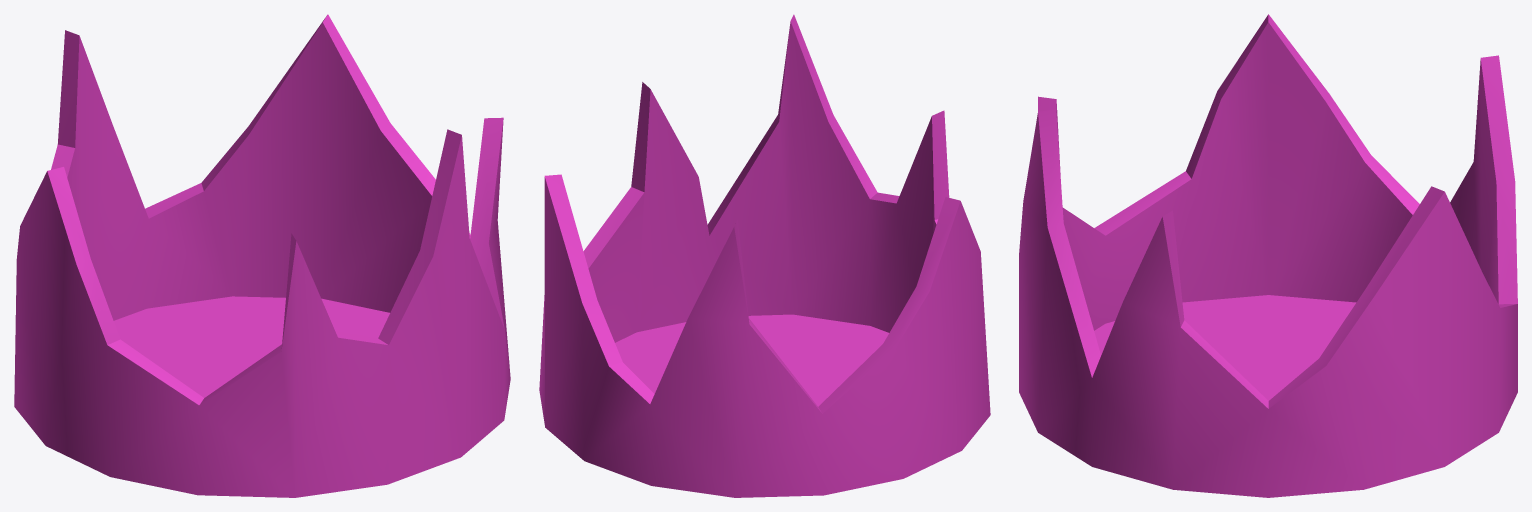
Rendered from SM_Pipe_Broken.fbx.
3 renders of one model, left to right at view 1: azimuth 30°, elevation 25°; view 2: azimuth 150°, elevation 25°; view 3: azimuth 270°, elevation 25°, orthographic. The views are drawn at different scales.
Visible parts, largest first — view 1: Bend; view 2: Bend; view 3: Bend.
Boxes of the visible parts, x1,y1,x2,y2 form: Bend: (14, 14, 510, 497); Bend: (539, 14, 990, 497); Bend: (1019, 14, 1517, 497).
Bounding box in the file's own units: 25.96 × 18.44 × 25.92.
